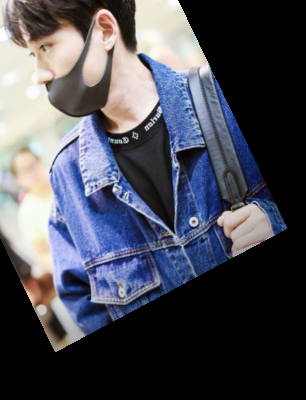mask_weared_incorrect: (1, 1, 159, 116)
